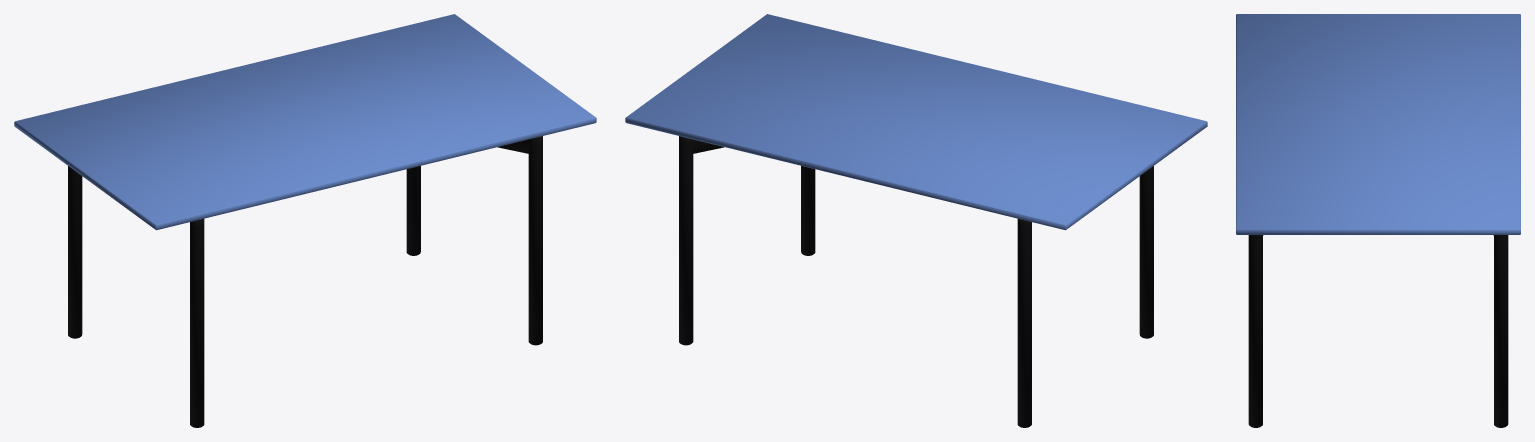
File: glassTable.FBX
3 renders of one model, left to right at view 1: azimuth 30°, elevation 25°; view 2: azimuth 150°, elevation 25°; view 3: azimuth 270°, elevation 25°, orthographic.
Visible parts, largest first — view 1: toptable_C, potes_tabl; view 2: toptable_C, potes_tabl; view 3: toptable_C, potes_tabl.
Part boxes in pixels (<box>): toptable_C: <box>14,14,596,230</box>; potes_tabl: <box>68,136,542,427</box>; toptable_C: <box>625,14,1207,230</box>; potes_tabl: <box>679,136,1153,427</box>; toptable_C: <box>1236,14,1520,234</box>; potes_tabl: <box>1248,235,1508,427</box>.
Size of the model in its own units: 1.61 by 0.7674 by 0.8968.
